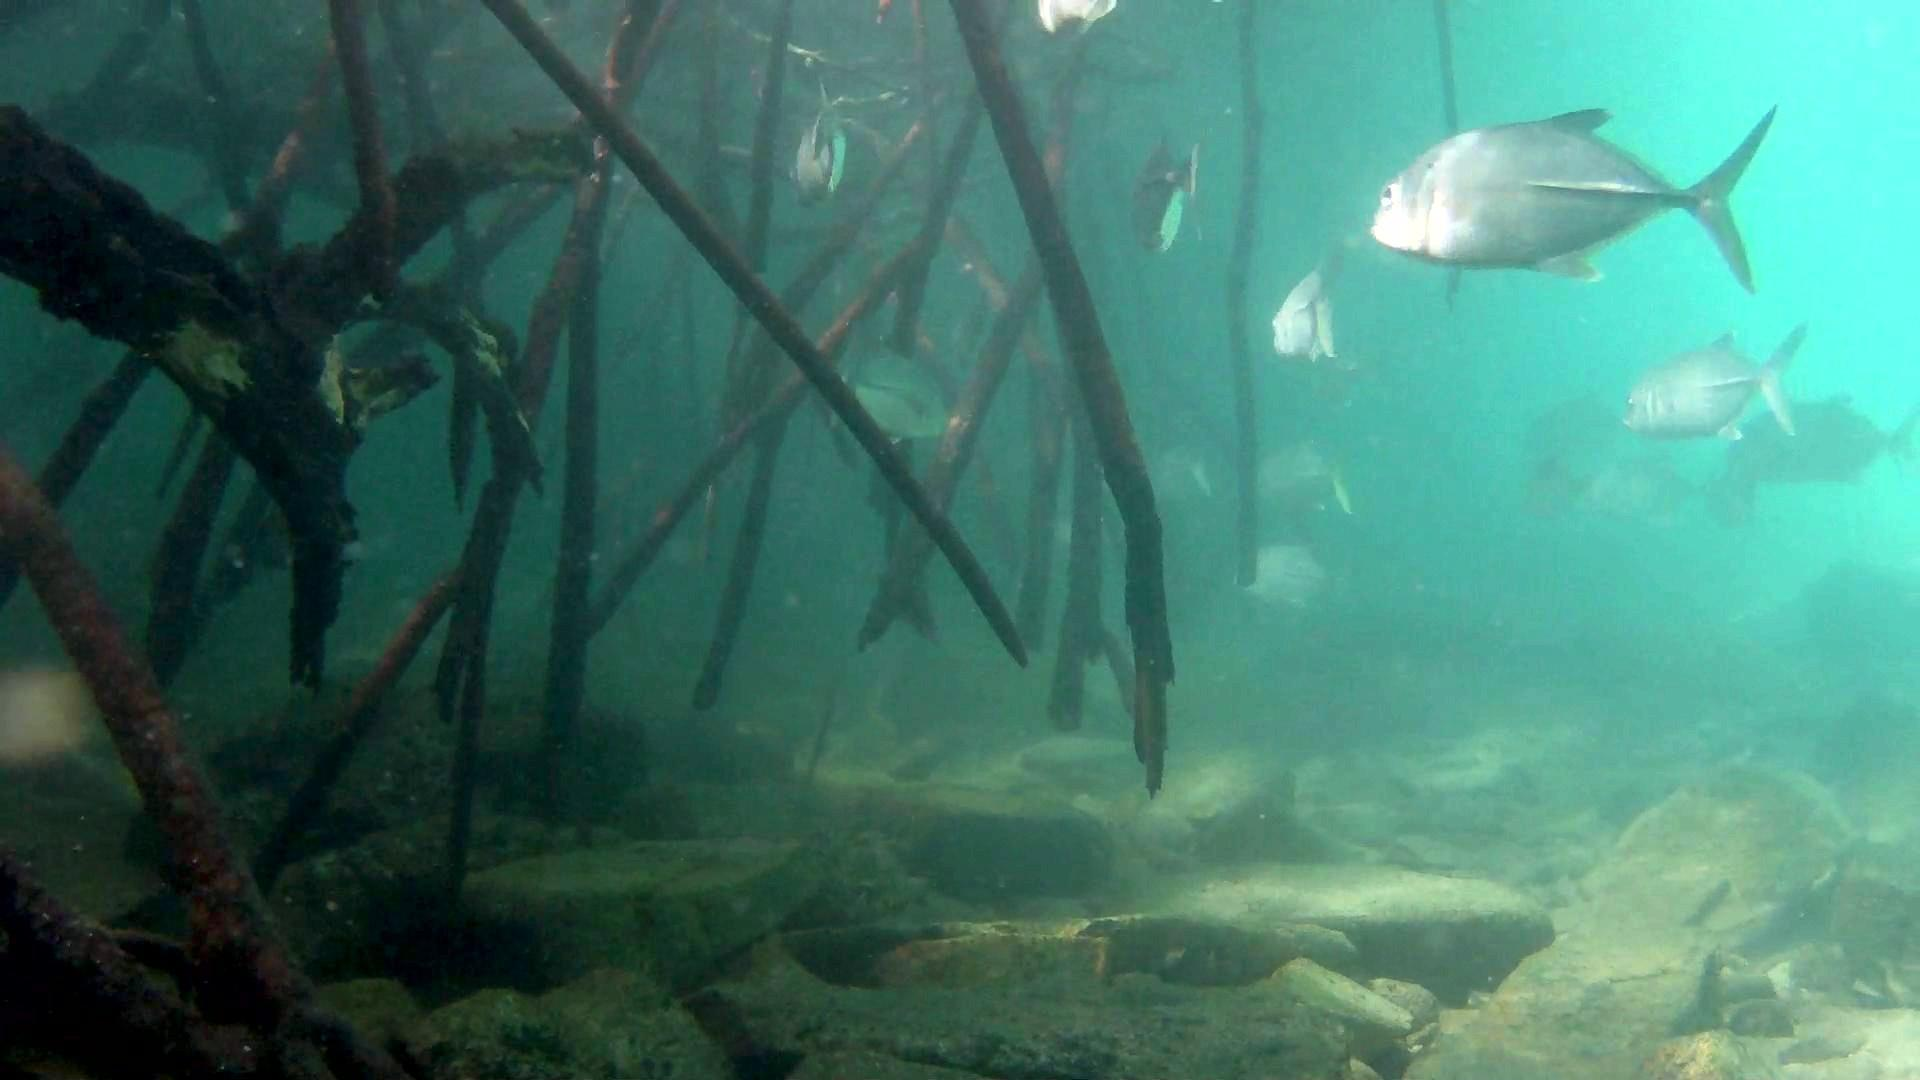caranx: (1358, 88, 1792, 305), (1601, 313, 1815, 455)
